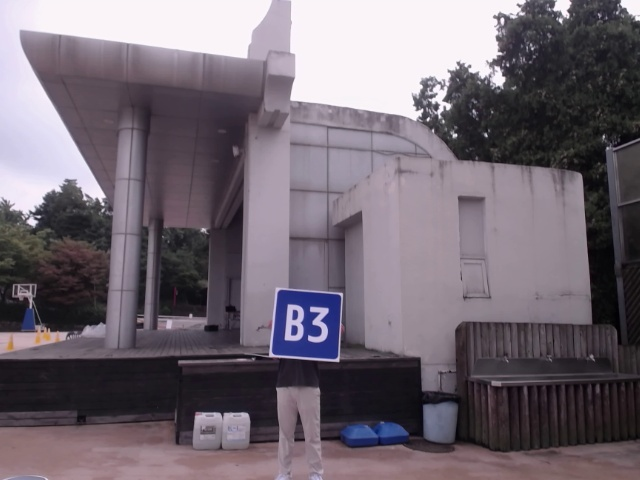delivery_b3: (272, 289, 340, 360)
